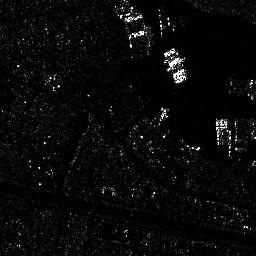ship: (162, 48, 186, 84)
